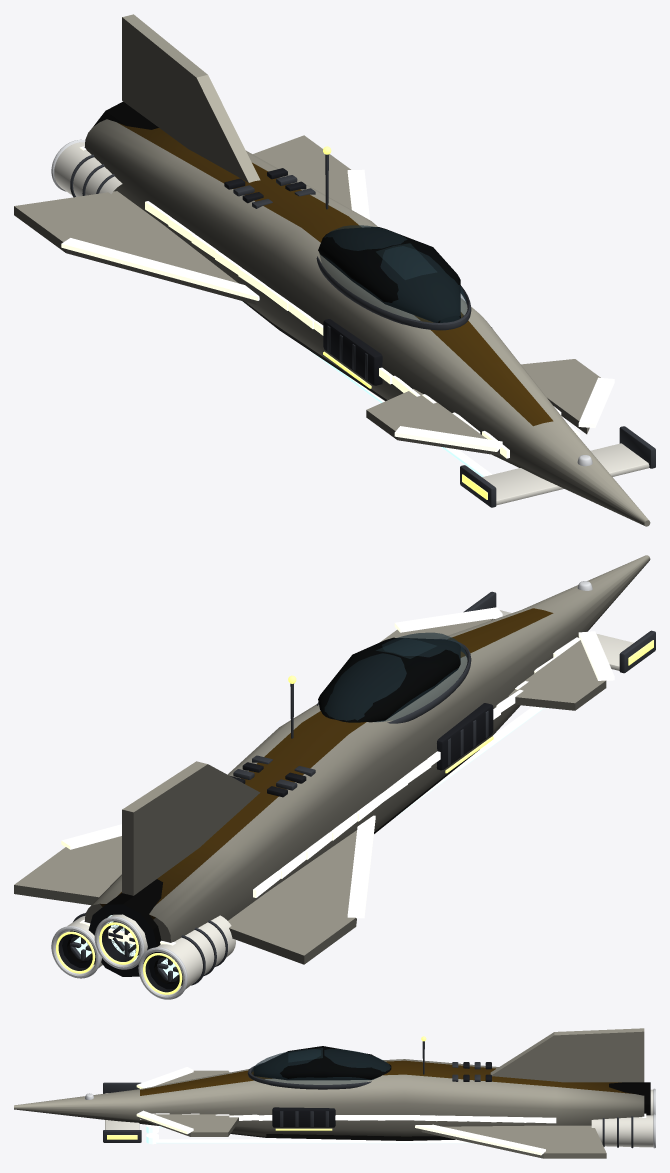
The model's file is shaddai_ship_lancer_v01.glb.
The picture shows the model from 3 angles, top to bottom: view 1: azimuth 30°, elevation 25°; view 2: azimuth 150°, elevation 25°; view 3: azimuth 270°, elevation 25°; orthographic projection. The views are drawn at different scales.
Visible parts, largest first — view 1: shaddai_ship_lancer, shaddai_ship_lancer_detail, shaddai_ship_lancer_thrusters; view 2: shaddai_ship_lancer, shaddai_ship_lancer_detail, shaddai_ship_lancer_thrusters; view 3: shaddai_ship_lancer, shaddai_ship_lancer_detail, shaddai_ship_lancer_thrusters.
Boxes of the visible parts, bbox=[...] form: shaddai_ship_lancer: bbox=[14, 14, 650, 526]; shaddai_ship_lancer_detail: bbox=[51, 139, 655, 507]; shaddai_ship_lancer_thrusters: bbox=[93, 101, 158, 129]; shaddai_ship_lancer: bbox=[14, 555, 650, 964]; shaddai_ship_lancer_detail: bbox=[51, 581, 655, 999]; shaddai_ship_lancer_thrusters: bbox=[62, 879, 179, 989]; shaddai_ship_lancer: bbox=[14, 1028, 646, 1158]; shaddai_ship_lancer_detail: bbox=[85, 1036, 655, 1148]; shaddai_ship_lancer_thrusters: bbox=[146, 1082, 650, 1144].
Bounding box in the file's own units: 2.09 × 1.15 × 6.31.
